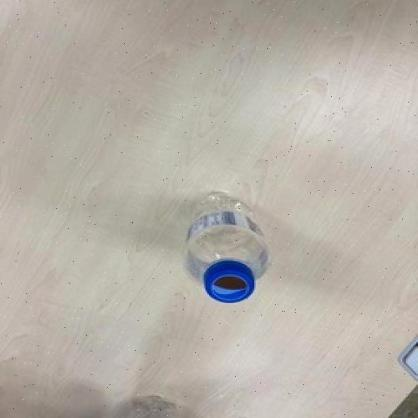bottle: (181, 182, 272, 309)
cap: (202, 259, 260, 306)
label: (176, 206, 269, 244)
